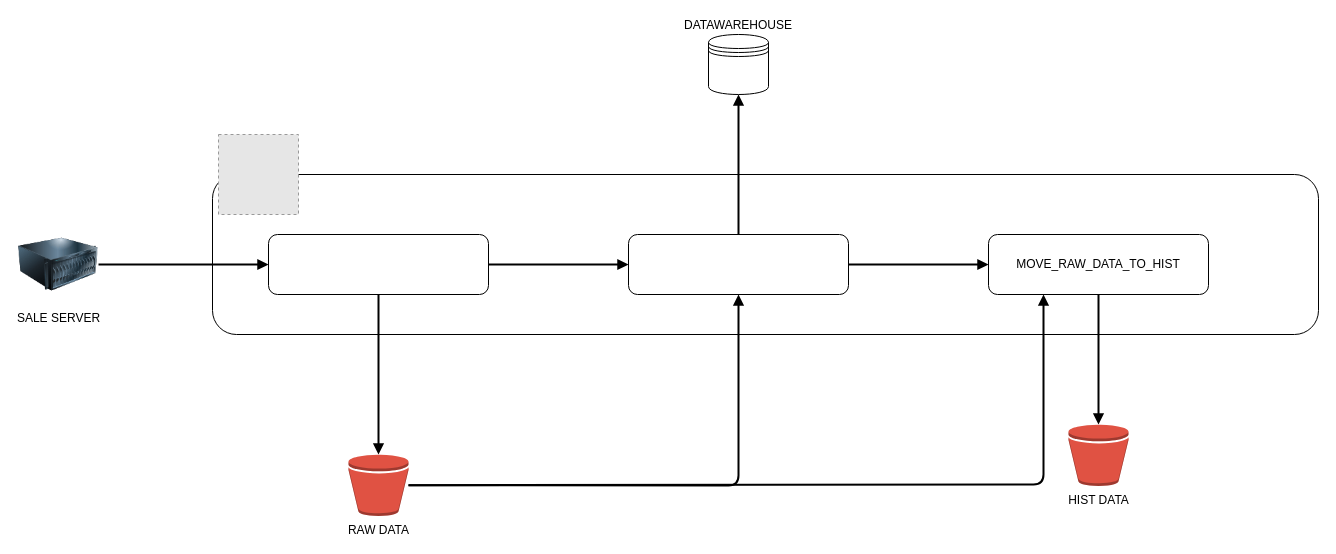
Some shapes in this 1336 by 554 pixel diagram are drawn without their labels. Grey dashed boxes stand in for pictures. The box of each missing label's shape, as (x1, y1, x2, y2) in pixels:
READ_API_INGEST_RAW_DATA: (268, 234, 488, 294)
READ_RAW_DATA_LOAD_DWH: (628, 234, 848, 294)
